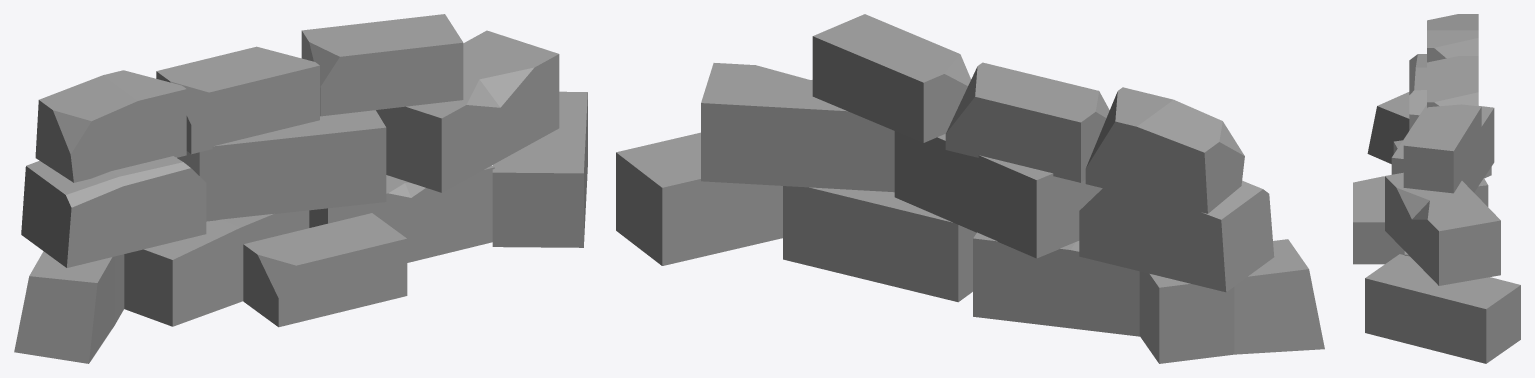
The model's file is brick pile.glb.
3 renders of one model, left to right at view 1: azimuth 30°, elevation 25°; view 2: azimuth 150°, elevation 25°; view 3: azimuth 270°, elevation 25°, orthographic. The views are drawn at different scales.
Visible parts, largest first — view 1: brick pile; view 2: brick pile; view 3: brick pile.
Part boxes in pixels (<box>): brick pile: <box>14,14,587,363</box>; brick pile: <box>616,14,1324,363</box>; brick pile: <box>1353,14,1520,363</box>.
Bounding box in the file's own units: 1.36 × 0.4473 × 0.4316.
Materials: 1 (1 with a texture image).
